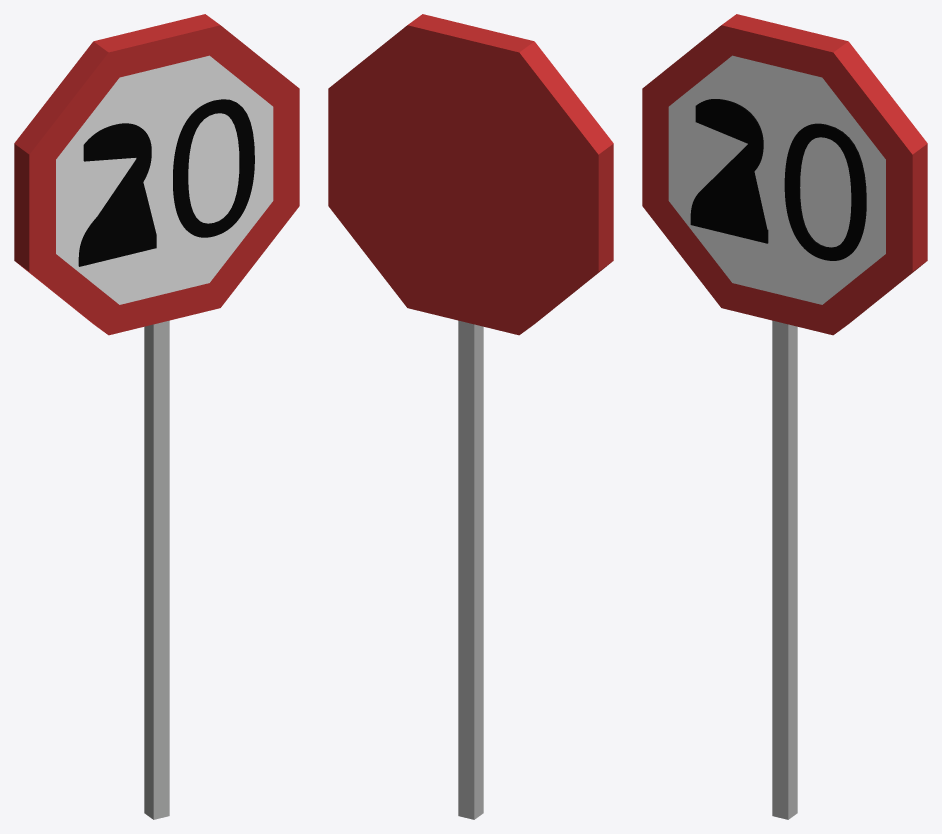
File: 20_speed_sign.fbx
3 renders of one model, left to right at view 1: azimuth 30°, elevation 25°; view 2: azimuth 150°, elevation 25°; view 3: azimuth 330°, elevation 25°, orthographic.
Parts seen in each view (by area): view 1: 20_speed_sign; view 2: 20_speed_sign; view 3: 20_speed_sign.
Part boxes in pixels (left/top/right/bottom): 20_speed_sign: left=14, top=14, right=299, bottom=819; 20_speed_sign: left=328, top=14, right=613, bottom=819; 20_speed_sign: left=642, top=14, right=927, bottom=819.
Size of the model in its own units: 1.19 by 3.29 by 0.1231.
2 materials, 1 textured.
